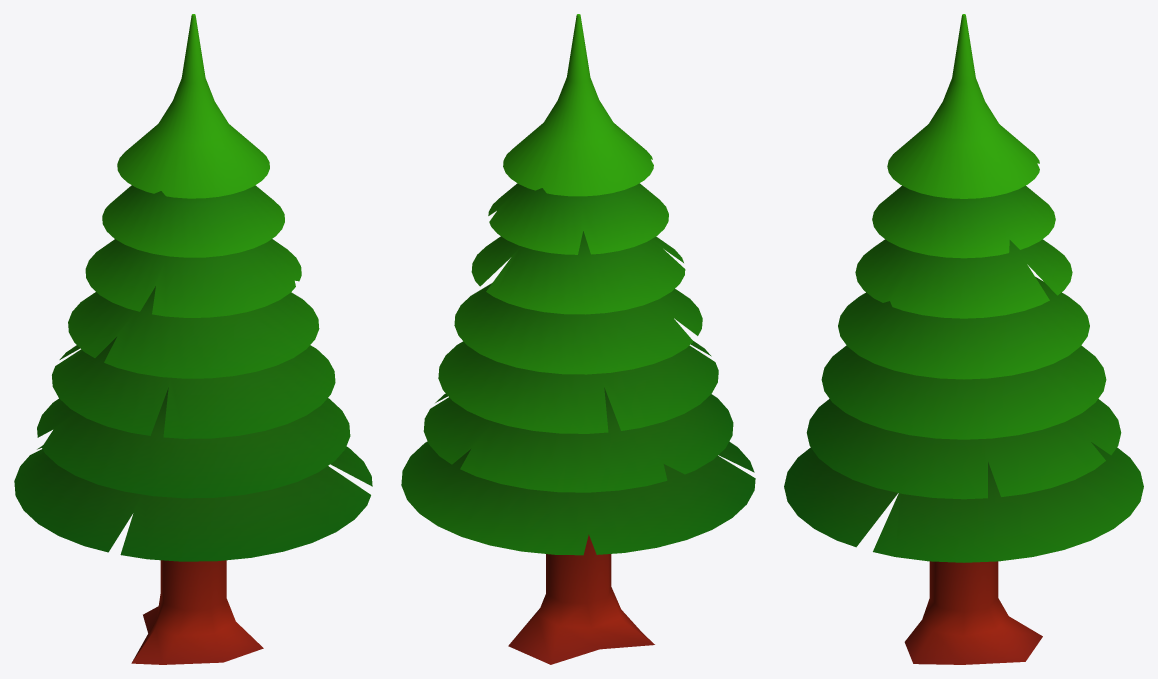
File: PineTree.fbx
3 renders of one model, left to right at view 1: azimuth 30°, elevation 25°; view 2: azimuth 150°, elevation 25°; view 3: azimuth 270°, elevation 25°, orthographic.
Parts seen in each view (by area): view 1: Low poly tree; view 2: Low poly tree; view 3: Low poly tree.
Boxes of the visible parts, x1,y1,x2,y2 form: Low poly tree: (14, 14, 372, 664); Low poly tree: (401, 14, 755, 664); Low poly tree: (784, 14, 1143, 664).
Size of the model in its own units: 123 by 237 by 123.
